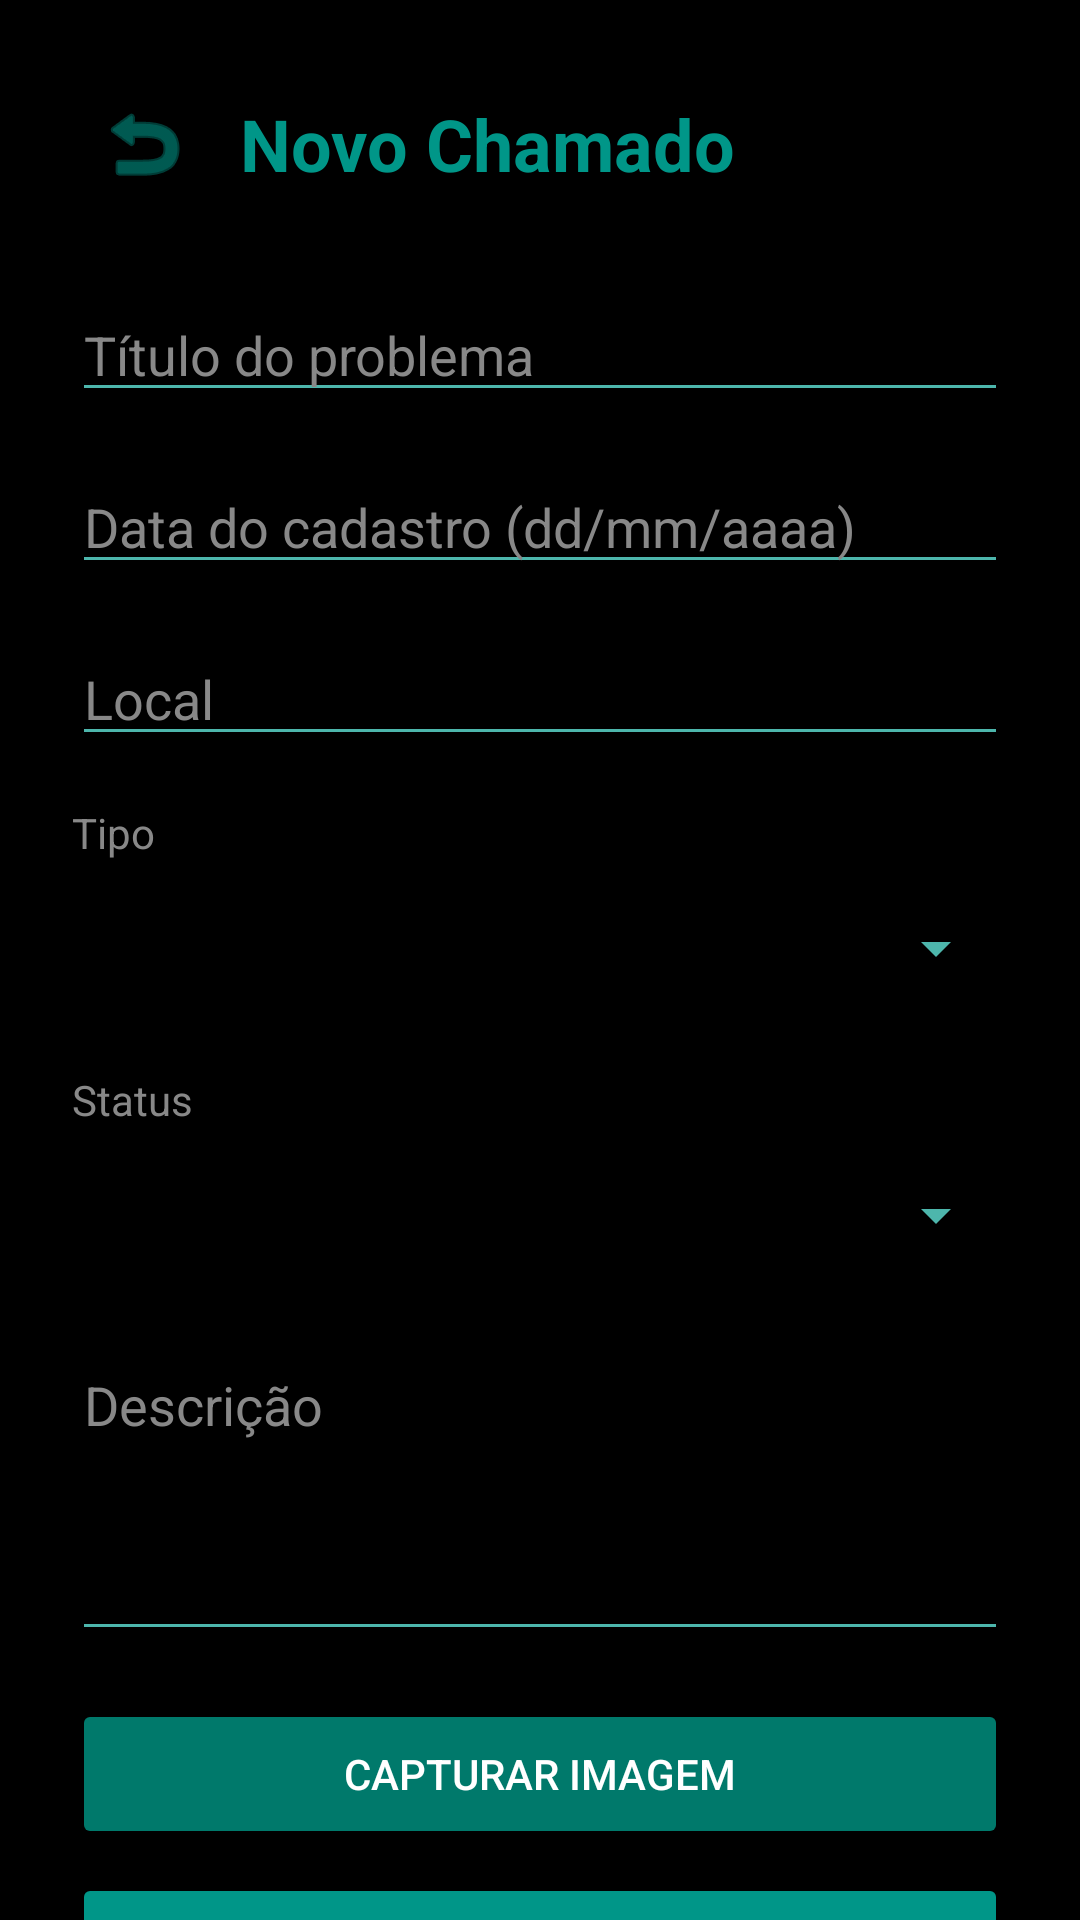

Icons on this 1080*1920 Android screen, each with the point to tap as point (x, y):
Voltar: point (145, 145)
